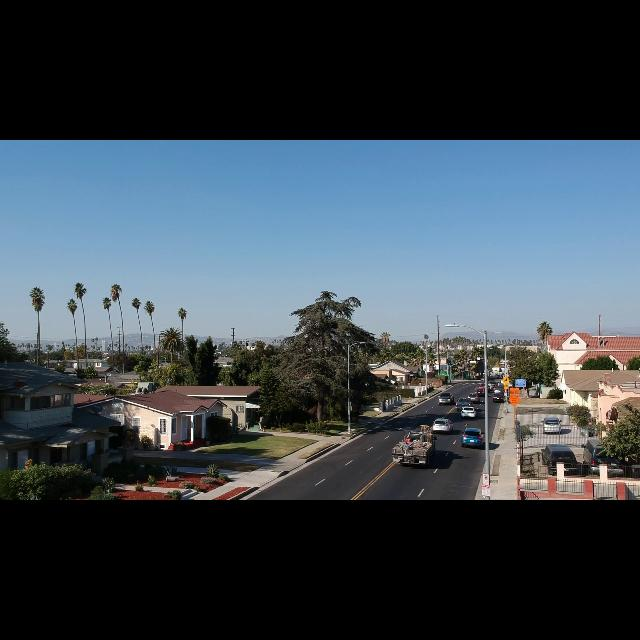car: (583, 440, 623, 475), (542, 444, 584, 475), (461, 428, 483, 447), (432, 419, 453, 434), (543, 417, 561, 434), (456, 398, 472, 411), (439, 393, 455, 404), (461, 407, 476, 418), (467, 394, 479, 403), (493, 394, 505, 402), (475, 387, 484, 395), (494, 387, 504, 394), (488, 383, 494, 391)
truck: (392, 426, 435, 466)
